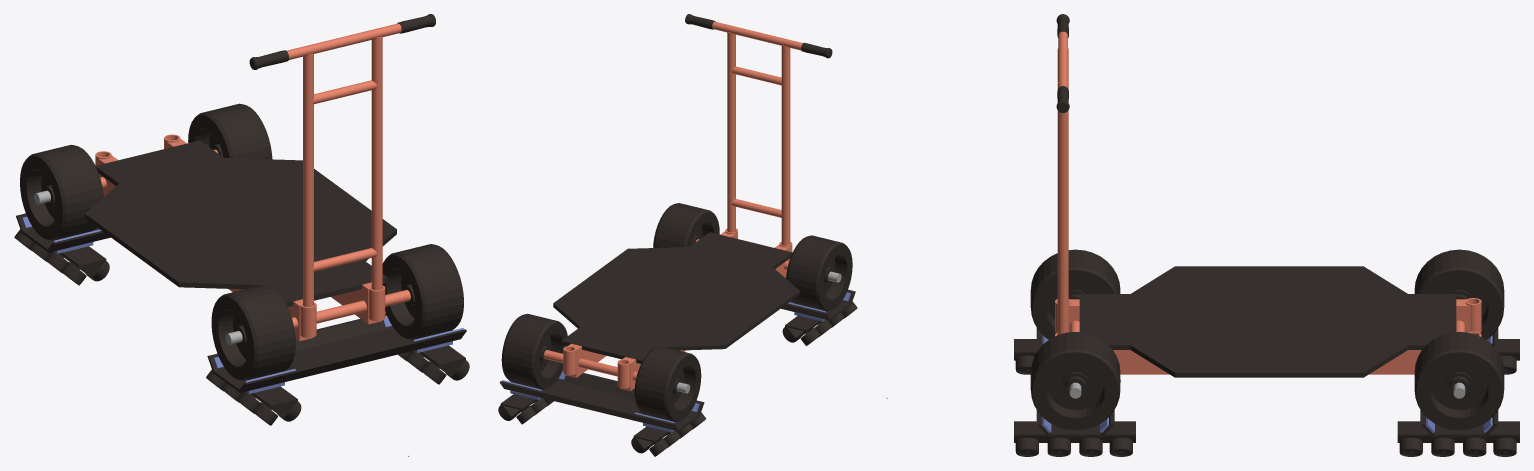
File: dolly3.fbx
The picture shows the model from 3 angles, left to right: view 1: azimuth 30°, elevation 25°; view 2: azimuth 150°, elevation 25°; view 3: azimuth 270°, elevation 25°; orthographic projection. The views are drawn at different scales.
Visible parts, largest first — view 1: Plane.001, Circle.004, Circle.009, Circle.002, Cube.001, Circle.000, Cylinder.008, Cylinder.007, Cylinder, Cylinder.011, Cube.006, Circle.011 (+12 smaller); view 2: Plane.001, Circle.002, Circle.004, Circle.000, Cube.006, Circle.009, Cylinder.007, Cylinder.008, Cylinder.001, Cylinder.011, Cube.001, Circle.001 (+11 smaller); view 3: Plane.001, Circle.000, Circle.009, Circle.002, Circle.004, Cylinder.008, Circle.008, Circle.005, Cube.008, Plane.003, Plane.002, Cube.001 (+2 smaller).
Part boxes in pixels (left/top/right/bottom): Plane.001: left=85, top=140, right=396, bottom=306; Circle.004: left=211, top=285, right=295, bottom=380; Circle.009: left=382, top=244, right=463, bottom=339; Circle.002: left=20, top=144, right=103, bottom=240; Cube.001: left=207, top=313, right=466, bottom=392; Circle.000: left=188, top=103, right=272, bottom=159; Cylinder.008: left=371, top=36, right=382, bottom=290; Cylinder.007: left=303, top=53, right=313, bottom=307; Cylinder: left=225, top=290, right=410, bottom=344; Cylinder.011: left=287, top=23, right=401, bottom=59; Cube.006: left=16, top=213, right=110, bottom=252; Circle.011: left=14, top=229, right=86, bottom=285; Plane.001: left=553, top=232, right=799, bottom=363; Circle.002: left=634, top=346, right=701, bottom=421; Circle.004: left=786, top=235, right=852, bottom=311; Circle.000: left=501, top=313, right=567, bottom=389; Cube.006: left=499, top=369, right=704, bottom=431; Circle.009: left=653, top=203, right=719, bottom=247; Cylinder.007: left=781, top=45, right=790, bottom=245; Cylinder.008: left=727, top=32, right=735, bottom=232; Cylinder.001: left=543, top=350, right=690, bottom=393; Cylinder.011: left=712, top=21, right=802, bottom=50; Cube.001: left=781, top=277, right=855, bottom=320; Circle.001: left=800, top=301, right=857, bottom=345; Plane.001: left=1079, top=266, right=1456, bottom=377; Circle.000: left=1414, top=332, right=1504, bottom=430; Circle.009: left=1030, top=332, right=1120, bottom=430; Circle.002: left=1414, top=249, right=1504, bottom=339; Circle.004: left=1030, top=249, right=1120, bottom=339; Cylinder.008: left=1057, top=81, right=1068, bottom=334; Circle.008: left=1399, top=437, right=1516, bottom=456; Circle.005: left=1015, top=437, right=1132, bottom=456; Cube.008: left=1113, top=350, right=1421, bottom=374; Plane.003: left=1397, top=421, right=1519, bottom=442; Plane.002: left=1014, top=421, right=1135, bottom=442; Cube.001: left=1036, top=328, right=1114, bottom=437.
Bounding box in the file's own units: 1931 × 2952 × 4789.
